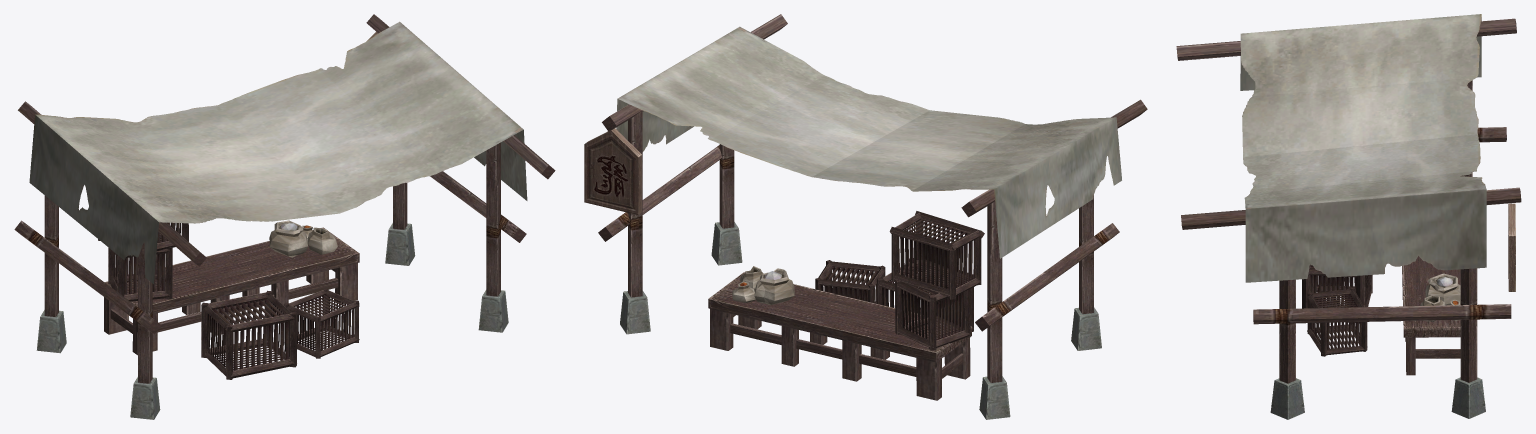
3 views of the same model, side by side, from view 1: azimuth 30°, elevation 25°; view 2: azimuth 150°, elevation 25°; view 3: azimuth 270°, elevation 25° (orthographic). The views are drawn at different scales.
Parts seen in each view (by area): view 1: qingmo_obj_004 [10484210]; view 2: qingmo_obj_004 [10484210]; view 3: qingmo_obj_004 [10484210].
Part boxes in pixels (x1,y1,x2,y2): qingmo_obj_004 [10484210]: (14, 14, 555, 419); qingmo_obj_004 [10484210]: (584, 14, 1147, 419); qingmo_obj_004 [10484210]: (1176, 14, 1521, 419).
Bounding box in the file's own units: 47.87 × 36.85 × 26.81.
Materials: 2 (2 with a texture image).
